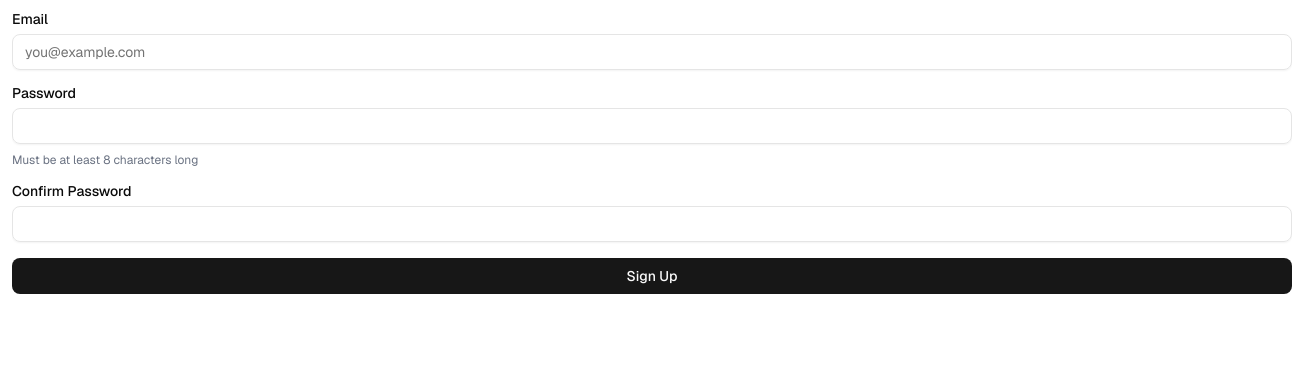
it: shows error message when signUp fails
The width and height of the screenshot is (1304, 365).
In the password field labelled "Password": (652, 126) x1=12 y1=108 x2=1292 y2=144, type "password123"
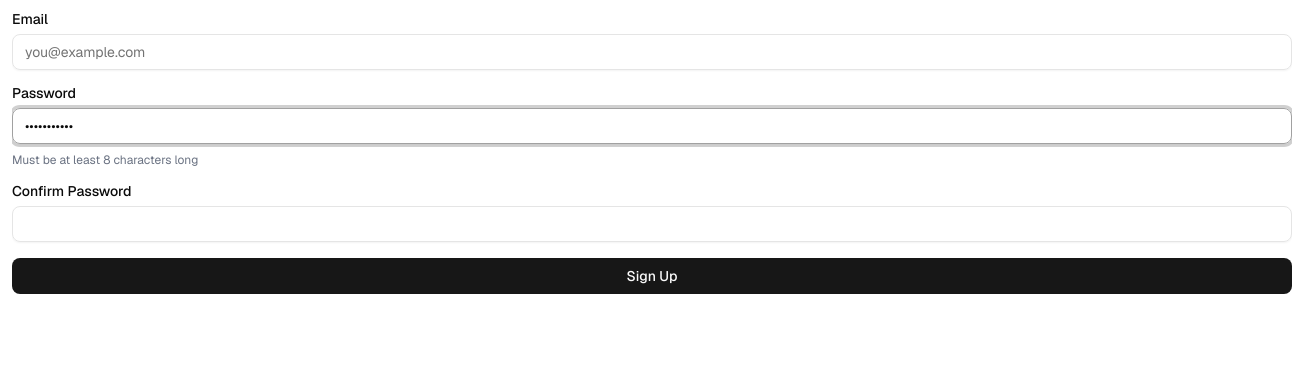
In the password field labelled "Confirm Password": (652, 224) x1=12 y1=206 x2=1292 y2=242, type "password123"
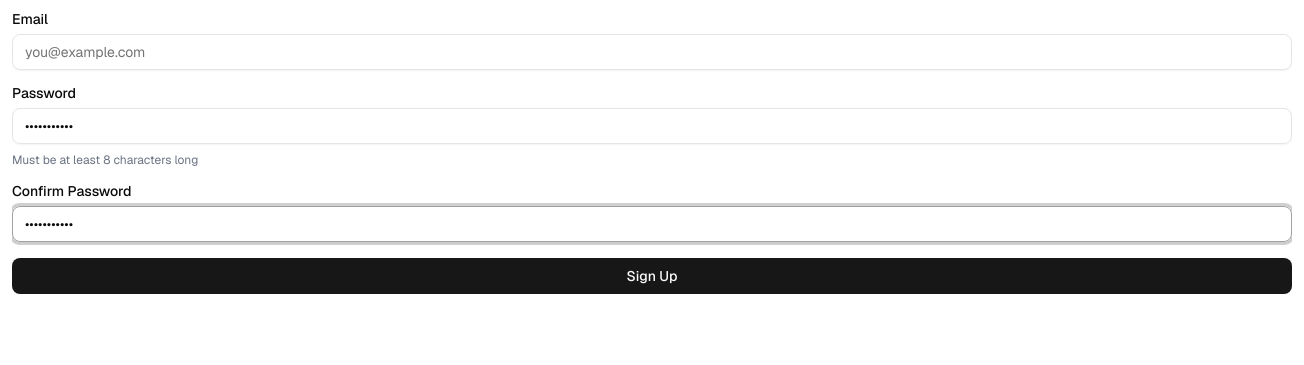
Submit the form
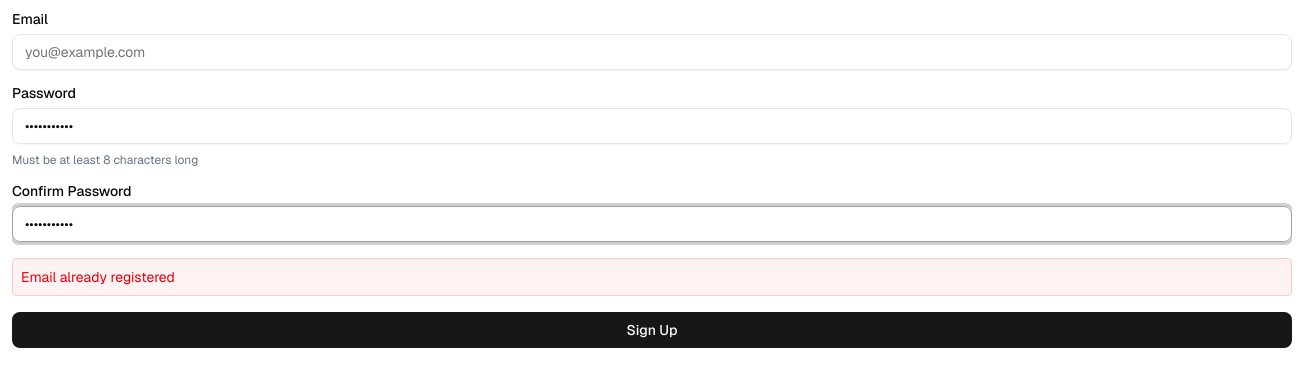
Expected: the text "Email already registered" is shown, x1=12 y1=258 x2=1292 y2=296
